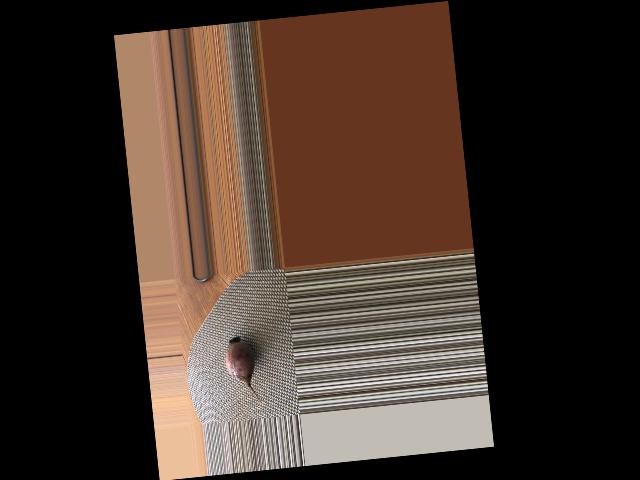beet: (223, 334, 266, 409)
